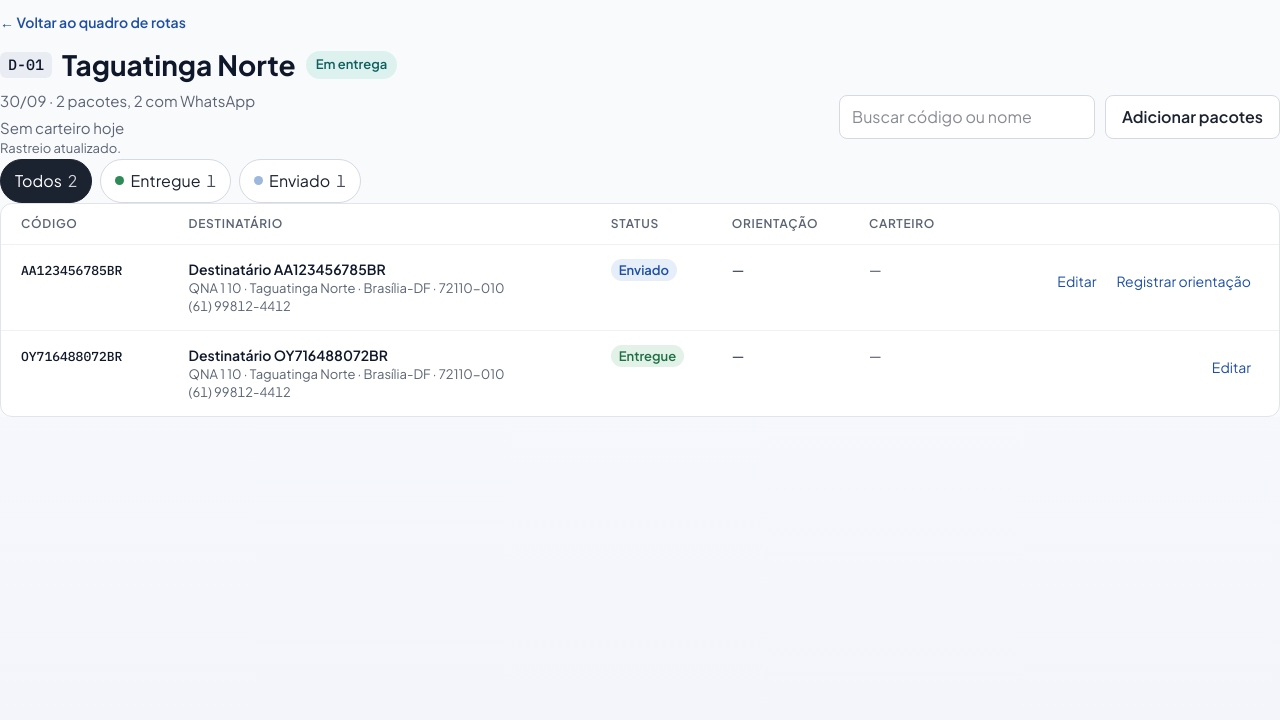
Test case: Orientação manual do supervisor (US-026) › erro 409 pacote_entregue da API aparece no diálogo, que continua aberto
The image size is (1280, 720).
Step 1. Click the button with aria-label "Registrar orientação para AA123456785BR" → (1184, 280), box left=1108, top=258, right=1259, bottom=302
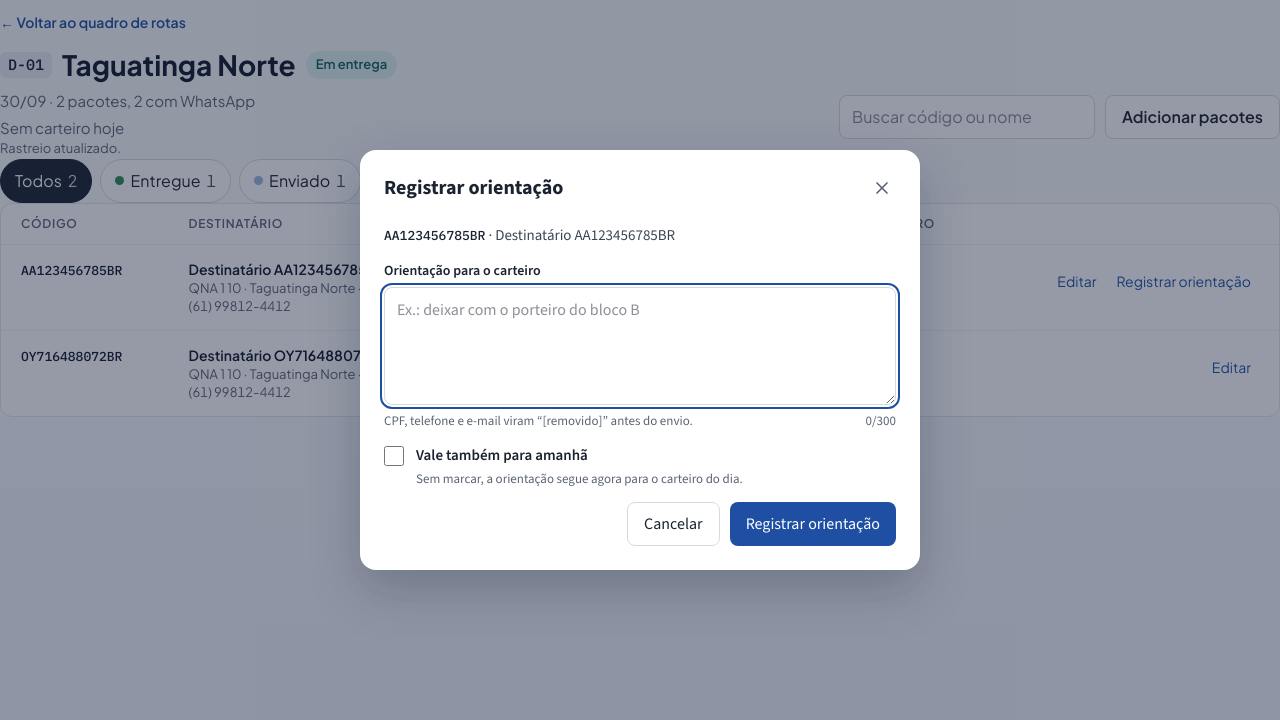
Step 2. Type "Entregar na portaria" into the text box labelled "Orientação para o carteiro" → (640, 346), box left=384, top=286, right=896, bottom=404
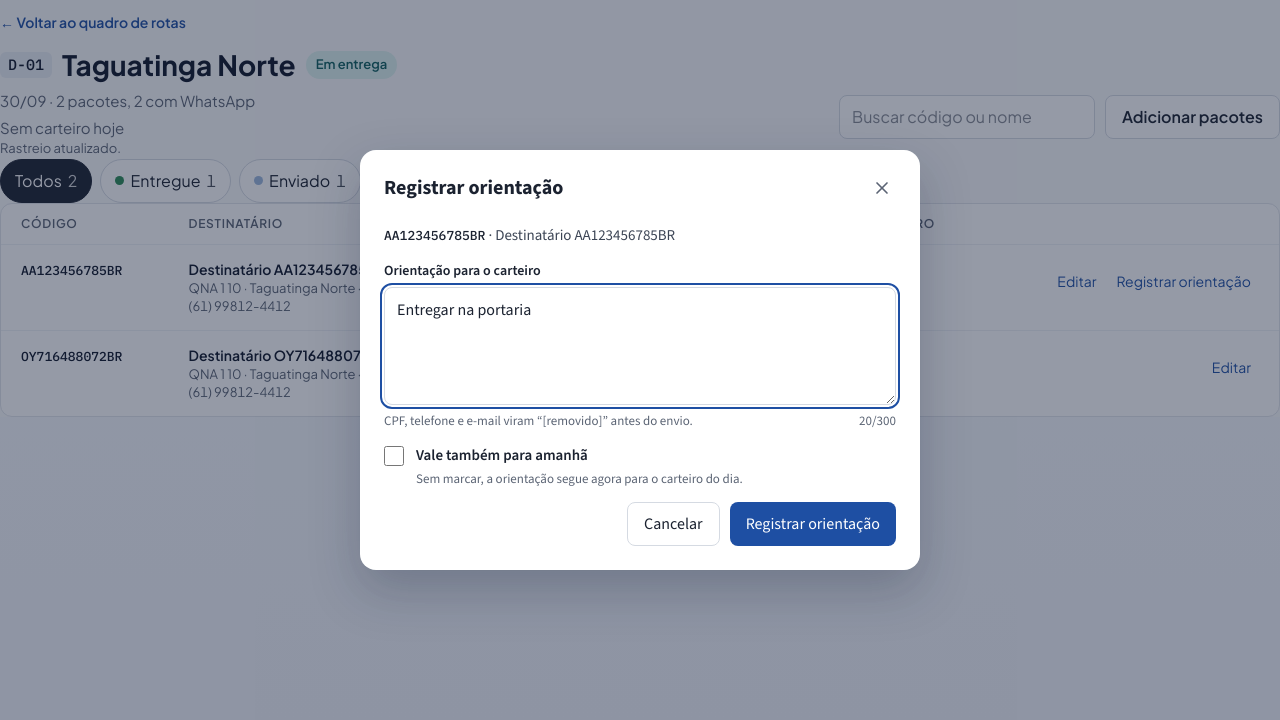
Step 3. Click the button "Registrar orientação" → (813, 524), box left=730, top=502, right=896, bottom=546
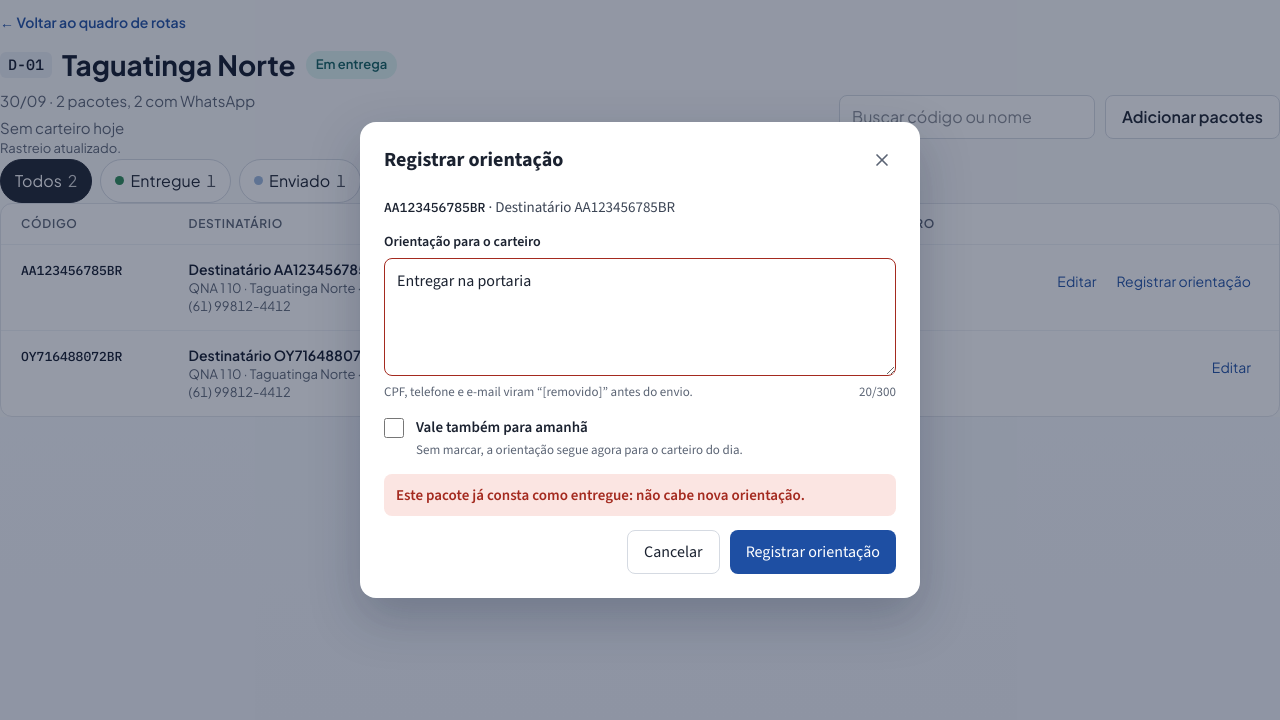
Now the dialog "Registrar orientação" is shown, box left=360, top=122, right=920, bottom=598
Now the message "Este pacote já consta como entregue: não cabe nova orientação." is shown, box left=384, top=474, right=896, bottom=516
